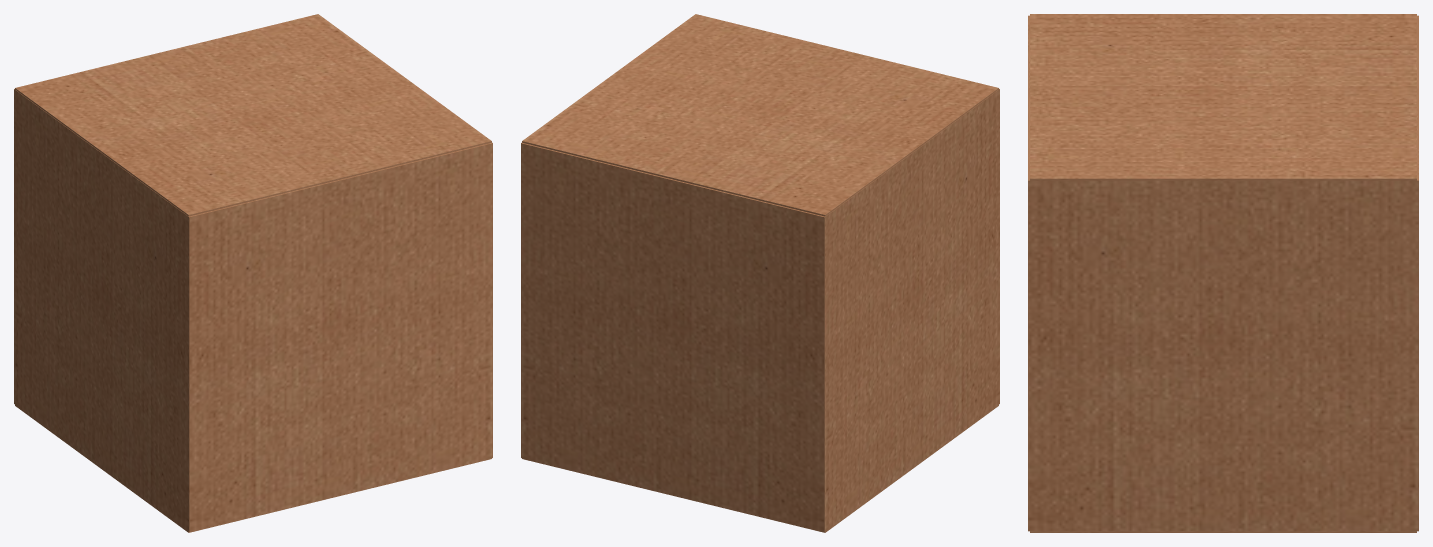
3 renders of one model, left to right at view 1: azimuth 30°, elevation 25°; view 2: azimuth 150°, elevation 25°; view 3: azimuth 270°, elevation 25°, orthographic. The views are drawn at different scales.
Visible parts, largest first — view 1: Box1.002, BoxLid; view 2: Box1.002, BoxLid; view 3: Box1.002, BoxLid.
Part boxes in pixels (x1=…): Box1.002: x1=14, y1=89, x2=492, y2=532; BoxLid: x1=15, y1=14, x2=491, y2=216; Box1.002: x1=521, y1=89, x2=999, y2=532; BoxLid: x1=522, y1=14, x2=998, y2=216; Box1.002: x1=1028, y1=15, x2=1418, y2=532; BoxLid: x1=1030, y1=14, x2=1416, y2=180.
Bounding box in the file's own units: 60.6 × 60.6 × 60.6.
1 material, 1 textured.
